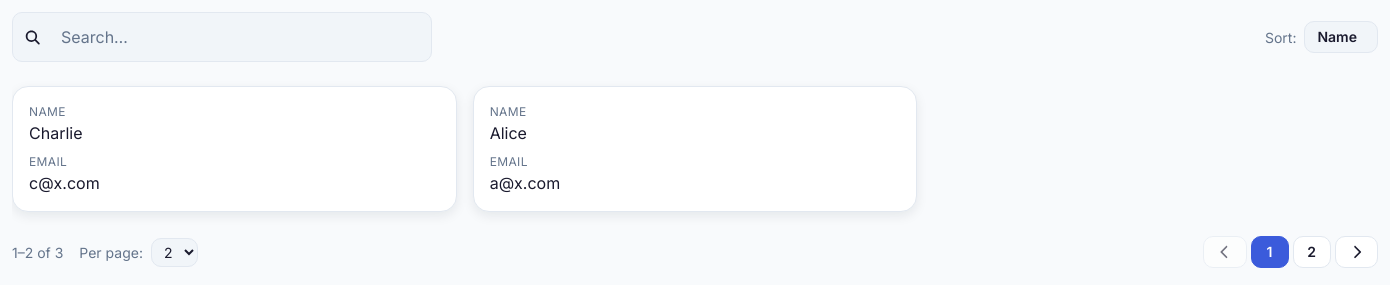
Scenario: DataView › changing page size via the selector re-slices the rows
Expected: the number of list items with class "grid-card" is 2, [12, 86, 457, 212]; [473, 86, 917, 212]
Step 1. Select "5" in the dropdown labelled "Per page:" → (174, 252), box [151, 238, 198, 267]
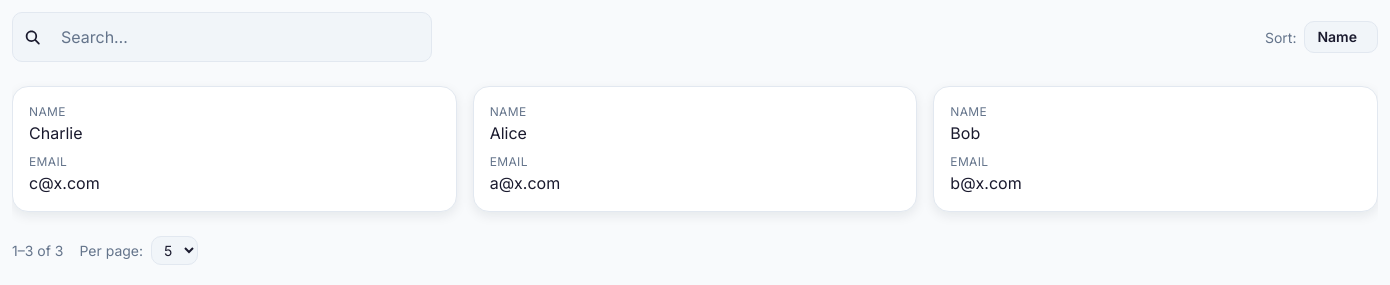
Now the number of list items with class "grid-card" is 3, box [12, 86, 457, 212]; [473, 86, 917, 212]; [933, 86, 1378, 212]
